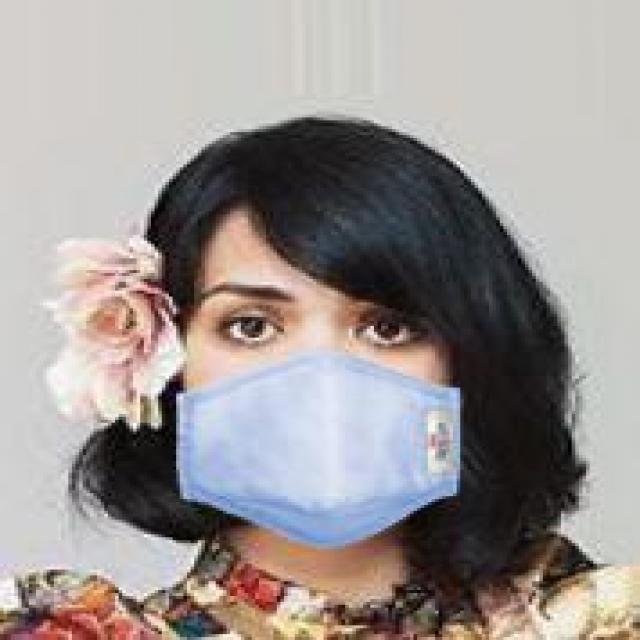mask: (122, 117, 504, 552)
